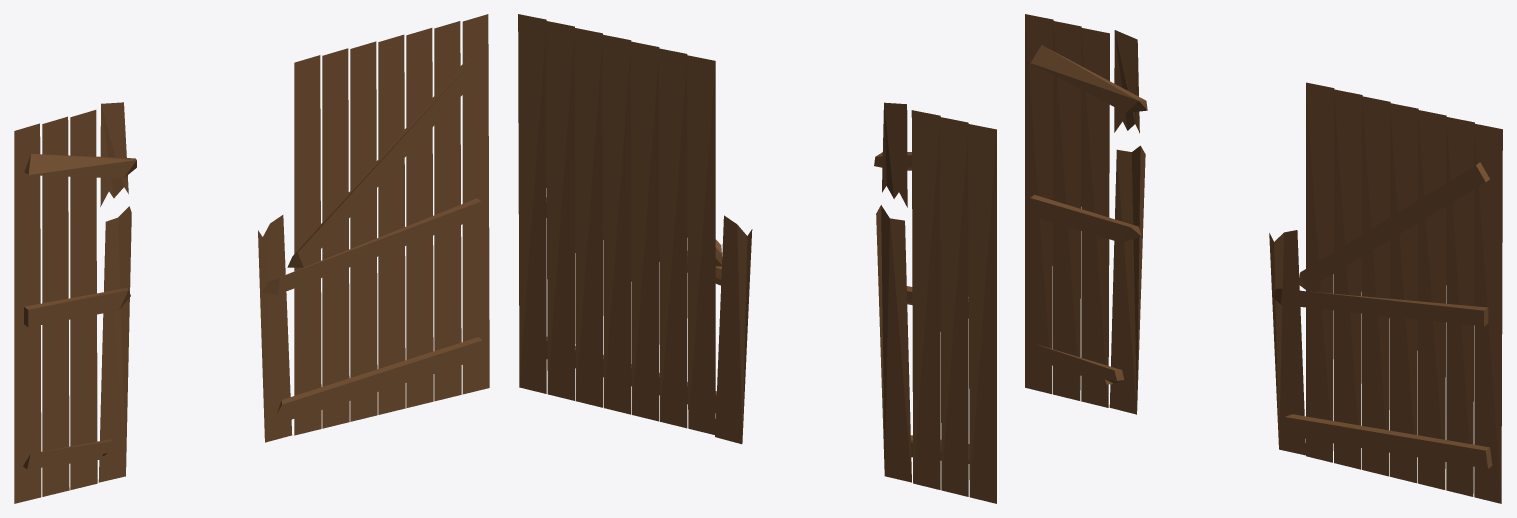
File: privacy-fence-broken.lod2.glb
3 views of the same model, side by side, from view 1: azimuth 30°, elevation 25°; view 2: azimuth 150°, elevation 25°; view 3: azimuth 330°, elevation 25° (orthographic).
Visible parts, largest first — view 1: Fence_17_Broken_Large_Fence_17_Broken_Large_map_0; view 2: Fence_17_Broken_Large_Fence_17_Broken_Large_map_0; view 3: Fence_17_Broken_Large_Fence_17_Broken_Large_map_0.
Boxes of the visible parts, x1=… form: Fence_17_Broken_Large_Fence_17_Broken_Large_map_0: x1=14, y1=14, x2=489, y2=503; Fence_17_Broken_Large_Fence_17_Broken_Large_map_0: x1=518, y1=14, x2=996, y2=503; Fence_17_Broken_Large_Fence_17_Broken_Large_map_0: x1=1025, y1=14, x2=1502, y2=503.
Bounding box in the file's own units: 2.72 × 2.07 × 0.0578.
